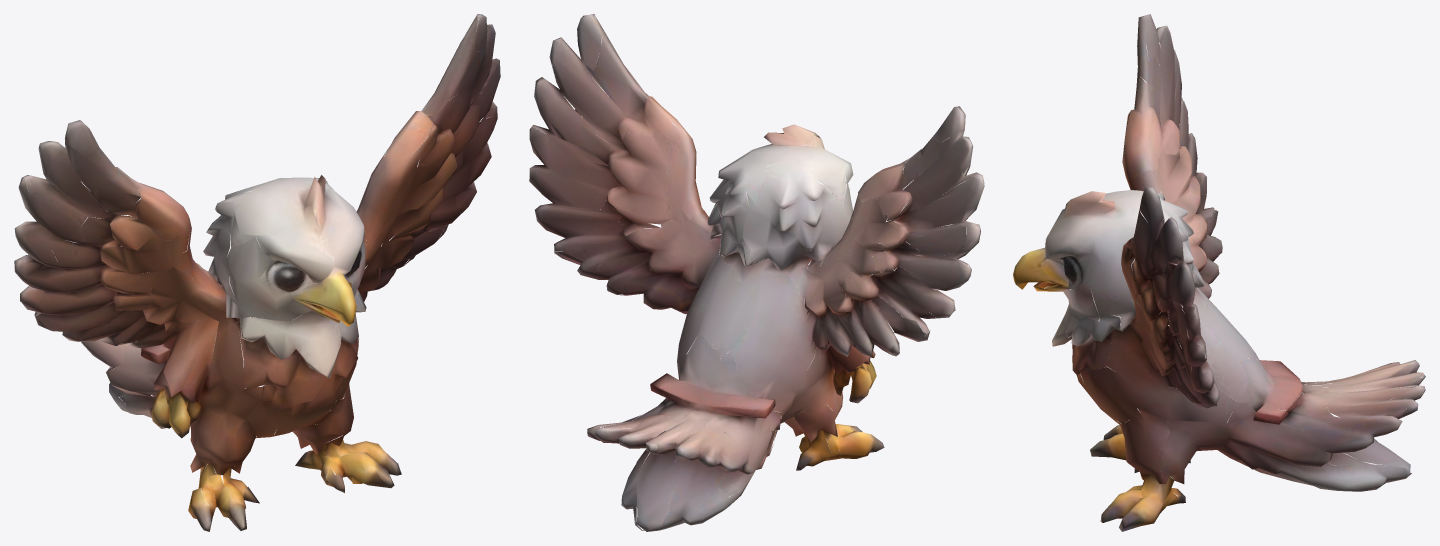
The model's file is mob_eagle.glb.
3 renders of one model, left to right at view 1: azimuth 30°, elevation 25°; view 2: azimuth 150°, elevation 25°; view 3: azimuth 270°, elevation 25°, orthographic. The views are drawn at different scales.
Parts seen in each view (by area): view 1: tripo_node_84e6d2ae-fb1f-41f0-ad68-274bbf565bd7; view 2: tripo_node_84e6d2ae-fb1f-41f0-ad68-274bbf565bd7; view 3: tripo_node_84e6d2ae-fb1f-41f0-ad68-274bbf565bd7.
Part boxes in pixels (box(x1,y1,x2,y2)): tripo_node_84e6d2ae-fb1f-41f0-ad68-274bbf565bd7: box(14, 14, 500, 531); tripo_node_84e6d2ae-fb1f-41f0-ad68-274bbf565bd7: box(529, 14, 984, 531); tripo_node_84e6d2ae-fb1f-41f0-ad68-274bbf565bd7: box(1013, 14, 1425, 531).
Size of the model in its own units: 1 by 0.8349 by 0.8062.
1 material, 1 textured.
